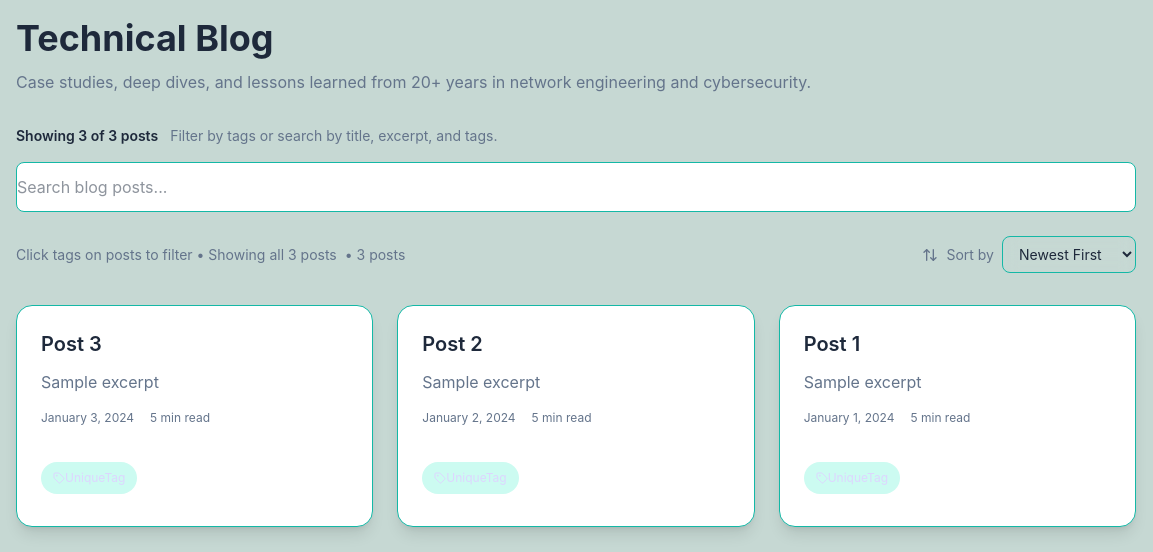
Test case: Blog › shows empty state when no posts match filter
Expected: the heading "Technical Blog" is shown, [16,16,274,60]
// First click filters by UniqueTag (should show all 3 posts)
Click the button "UniqueTag" below "January 3, 2024" at (89, 478), box [41,462,137,494]
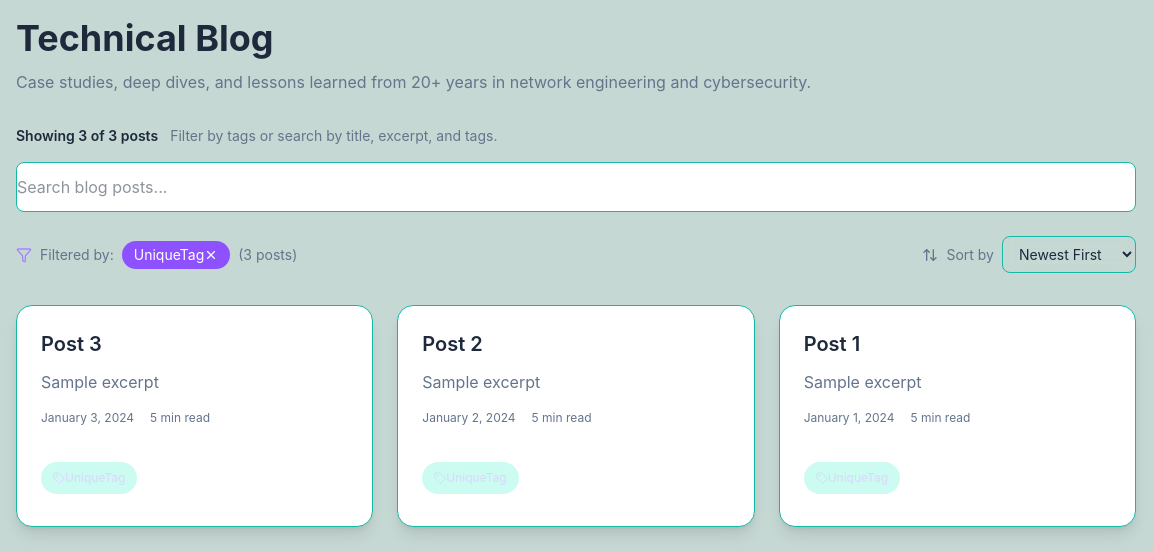
Now the text "Filtered by:" is shown, box [40,244,114,264]
